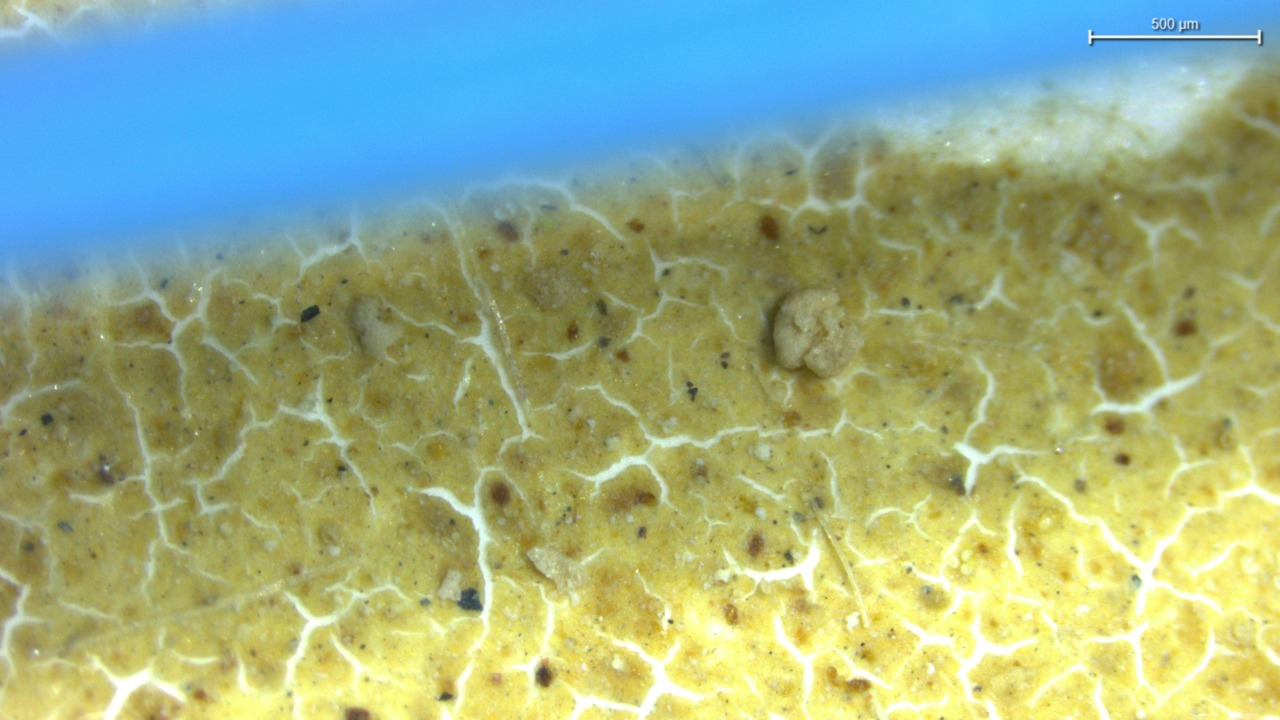microplastic_fragment: (772, 289, 863, 378)
